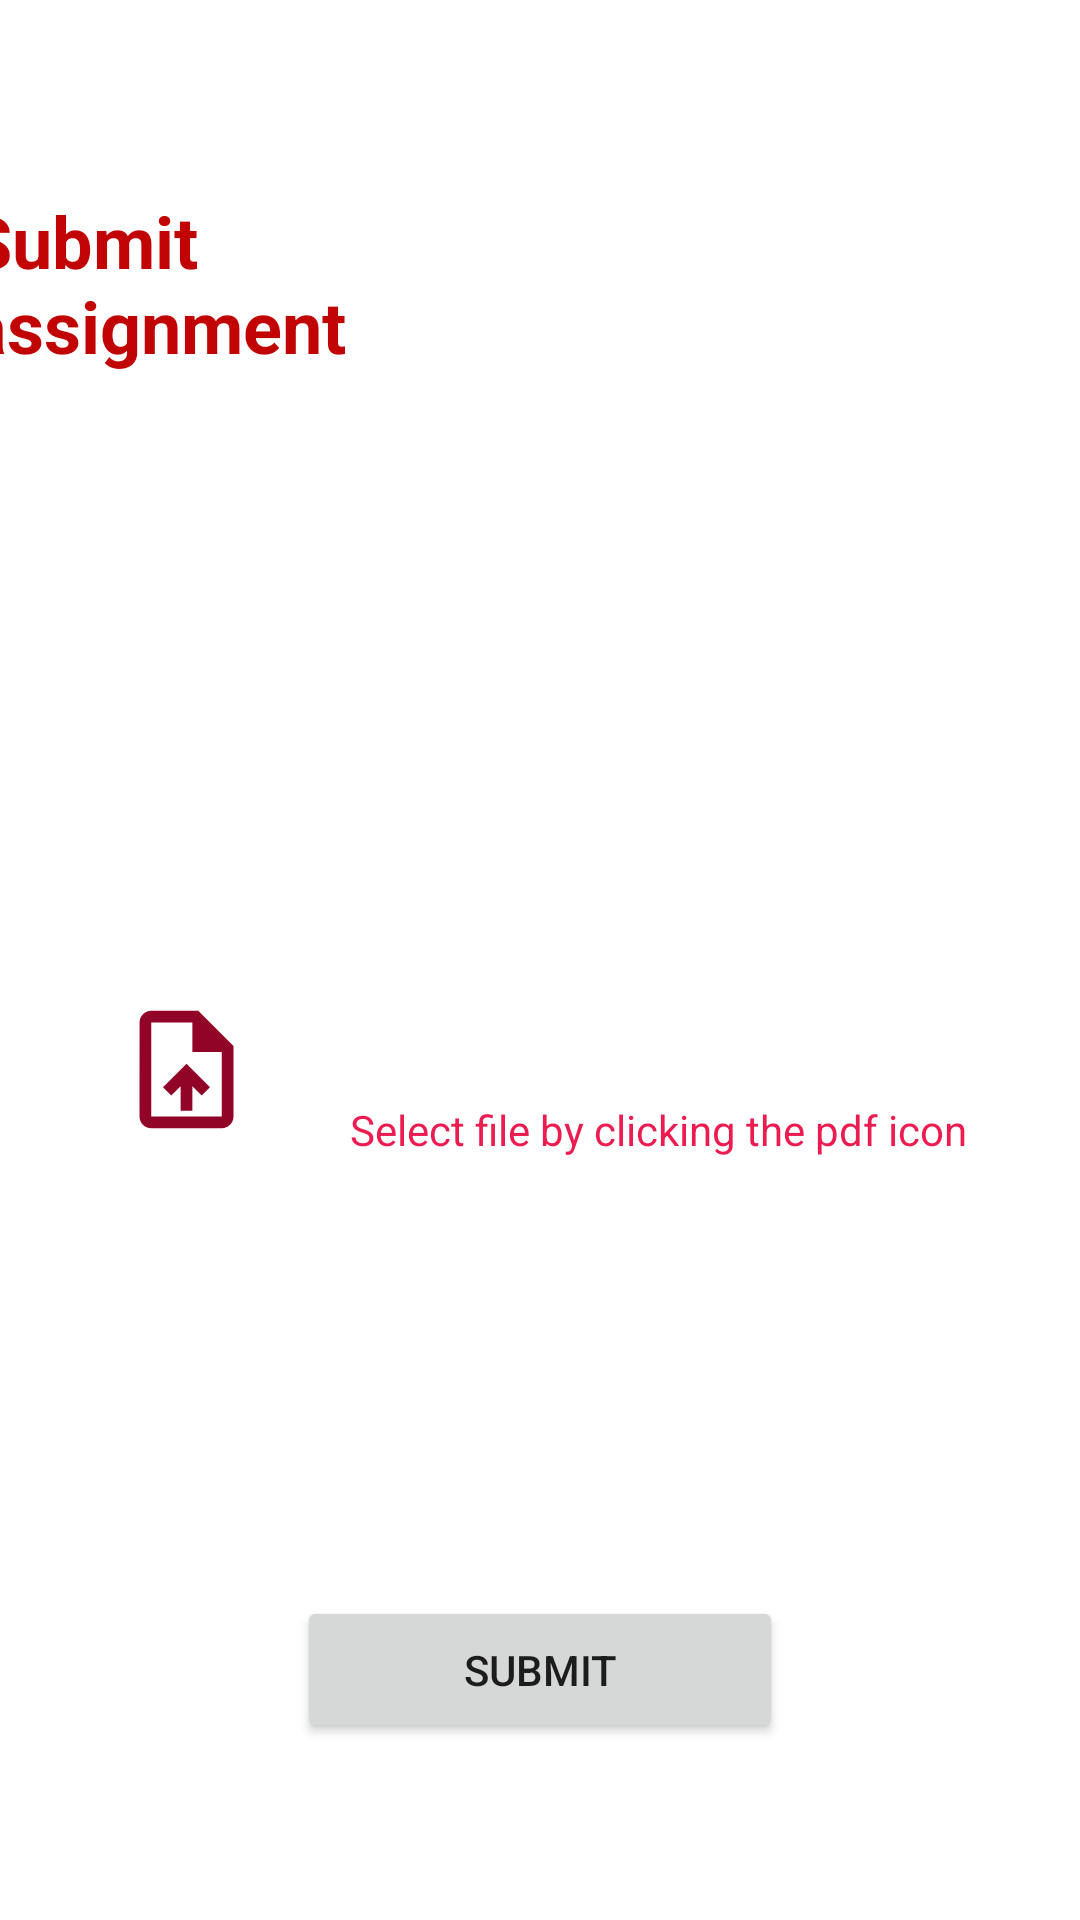

Icons on this 1080 x 1920 Android screen, each with its box as (x1, y1, x2, y2):
upload file: (139, 1010, 234, 1129)
